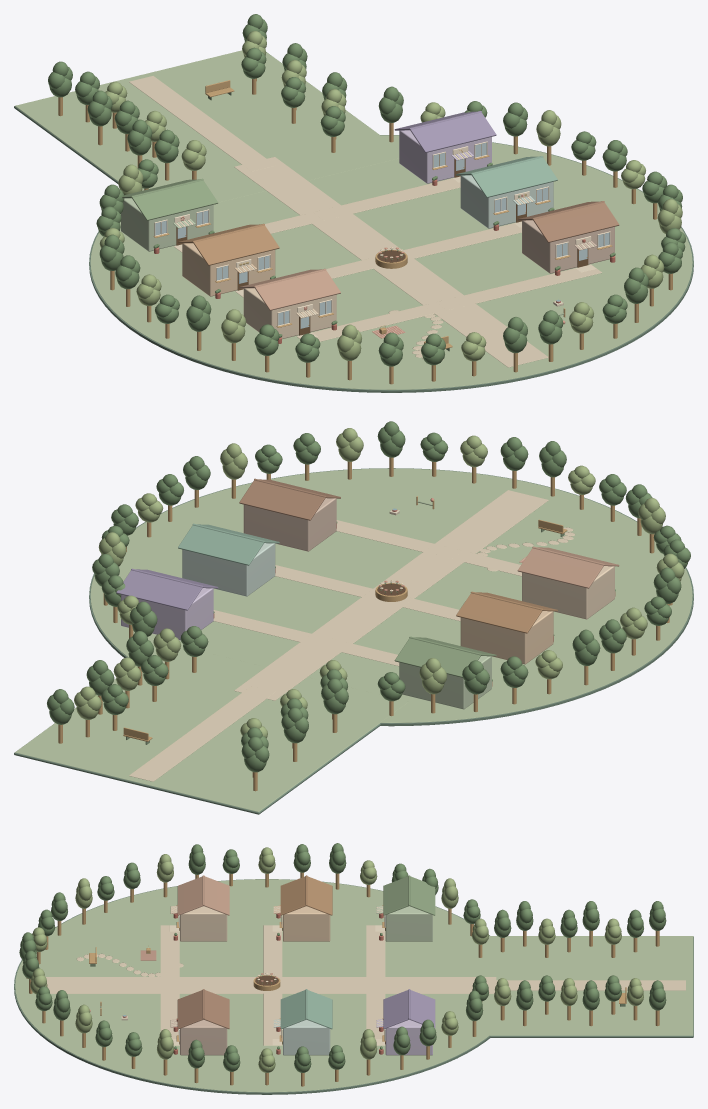
File: outside.glb
3 renders of one model, top to bottom at view 1: azimuth 30°, elevation 25°; view 2: azimuth 150°, elevation 25°; view 3: azimuth 270°, elevation 25°, orthographic. The views are drawn at different scales.
Visible parts, largest first — view 1: ground--街区柔绿, woods--叶片, ground--奶油石路, woods--嫩叶, woods--浅橡木, ground--地台侧面, building_cafe--咖啡店外墙, building_bakery--面包店外墙, building_store--便利店外墙, building_store--便利店屋顶, building_home--家里屋顶, building_bakery--面包店屋顶 (+6 smaller); view 2: ground--街区柔绿, woods--叶片, ground--奶油石路, woods--嫩叶, woods--浅橡木, ground--地台侧面, building_store--便利店外墙, building_cafe--咖啡店外墙, building_home--家里外墙, building_bakery--面包店外墙, building_store--便利店屋顶, building_bakery--面包店屋顶 (+6 smaller); view 3: ground--街区柔绿, woods--叶片, ground--奶油石路, woods--嫩叶, woods--浅橡木, ground--地台侧面, building_bakery--面包店屋顶, building_home--家里屋顶, building_store--便利店屋顶, building_cafe--咖啡店屋顶, building_florist--花店屋顶, building_bakery--面包店外墙 (+6 smaller).
Part boxes in pixels (x1=…): ground--街区柔绿: x1=15, y1=50, x2=692, y2=389; woods--叶片: x1=48, y1=14, x2=685, y2=366; ground--奶油石路: x1=129, y1=76, x2=601, y2=367; woods--嫩叶: x1=99, y1=31, x2=682, y2=361; woods--浅橡木: x1=58, y1=78, x2=672, y2=384; ground--地台侧面: x1=14, y1=106, x2=693, y2=392; building_cafe--咖啡店外墙: x1=522, y1=220, x2=614, y2=273; building_bakery--面包店外墙: x1=182, y1=243, x2=275, y2=296; building_store--便利店外墙: x1=460, y1=175, x2=553, y2=228; building_store--便利店屋顶: x1=456, y1=156, x2=557, y2=197; building_home--家里屋顶: x1=239, y1=268, x2=340, y2=310; building_bakery--面包店屋顶: x1=178, y1=223, x2=279, y2=265; ground--街区柔绿: x1=15, y1=468, x2=692, y2=811; woods--叶片: x1=47, y1=421, x2=690, y2=772; ground--奶油石路: x1=129, y1=490, x2=575, y2=781; woods--嫩叶: x1=74, y1=428, x2=684, y2=738; woods--浅橡木: x1=58, y1=457, x2=672, y2=791; ground--地台侧面: x1=14, y1=468, x2=693, y2=814; building_store--便利店外墙: x1=182, y1=543, x2=275, y2=596; building_cafe--咖啡店外墙: x1=243, y1=498, x2=336, y2=551; building_home--家里外墙: x1=522, y1=566, x2=614, y2=619; building_bakery--面包店外墙: x1=460, y1=611, x2=553, y2=664; building_store--便利店屋顶: x1=178, y1=523, x2=279, y2=565; building_bakery--面包店屋顶: x1=456, y1=591, x2=557, y2=633; ground--街区柔绿: x1=15, y1=879, x2=693, y2=1092; woods--叶片: x1=19, y1=843, x2=666, y2=1072; ground--奶油石路: x1=46, y1=925, x2=685, y2=1045; woods--嫩叶: x1=30, y1=847, x2=643, y2=1072; woods--浅橡木: x1=26, y1=872, x2=659, y2=1086; ground--地台侧面: x1=14, y1=879, x2=693, y2=1094; building_bakery--面包店屋顶: x1=280, y1=875, x2=332, y2=915; building_home--家里屋顶: x1=177, y1=875, x2=229, y2=915; building_store--便利店屋顶: x1=280, y1=989, x2=332, y2=1029; building_cafe--咖啡店屋顶: x1=177, y1=989, x2=229, y2=1029; building_florist--花店屋顶: x1=383, y1=875, x2=435, y2=915; building_bakery--面包店外墙: x1=273, y1=905, x2=330, y2=941.
Size of the model in its own units: 64 by 6.64 by 86.
